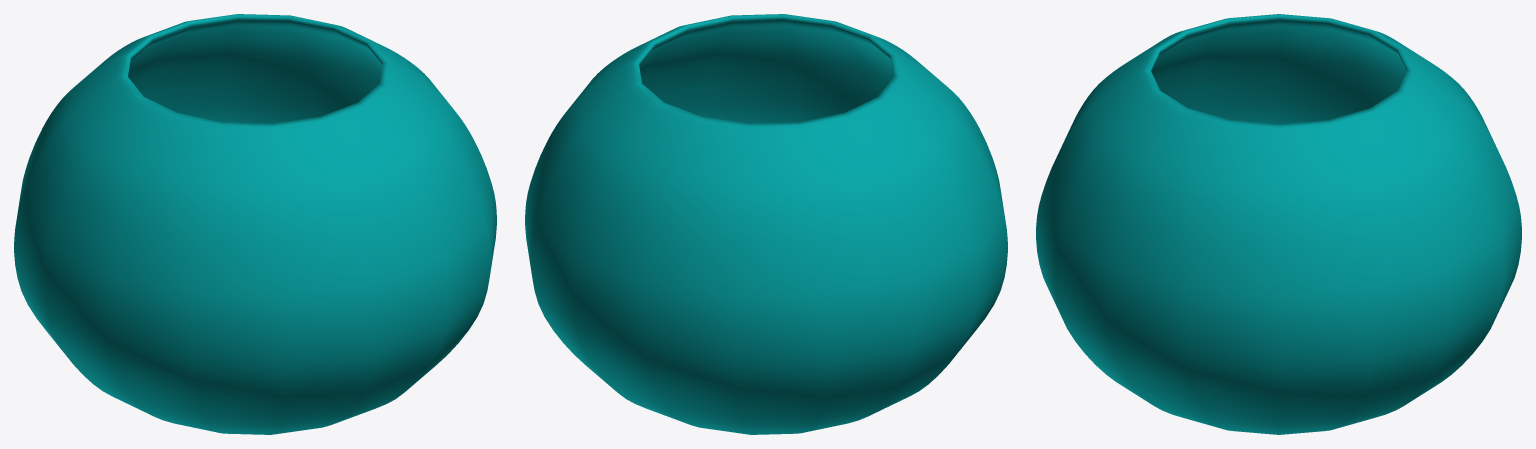
File: water_tank_maru.dae
3 renders of one model, left to right at view 1: azimuth 30°, elevation 25°; view 2: azimuth 150°, elevation 25°; view 3: azimuth 270°, elevation 25°, orthographic.
Visible parts, largest first — view 1: tankuMaru; view 2: tankuMaru; view 3: tankuMaru.
Boxes of the visible parts, x1,y1,x2,y2 form: tankuMaru: [14, 14, 496, 434]; tankuMaru: [525, 14, 1007, 434]; tankuMaru: [1036, 14, 1521, 434].
Bounding box in the file's own units: 3.06 × 3.06 × 2.37.
